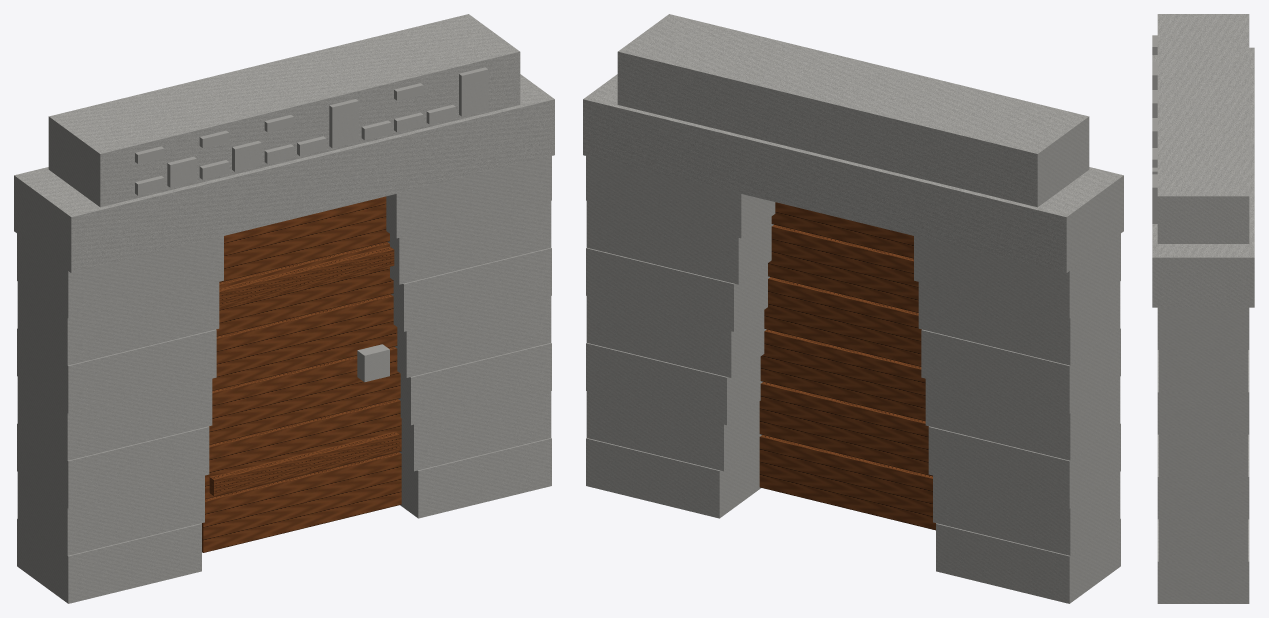
File: andean-terraces-and-stone-village-stone-gateway-93c14c96__38255.glb
3 views of the same model, side by side, from view 1: azimuth 30°, elevation 25°; view 2: azimuth 150°, elevation 25°; view 3: azimuth 270°, elevation 25° (orthographic). The views are drawn at different scales.
Visible parts, largest first — view 1: stone-gateway-stone, leaf/timber, leaf/stone; view 2: stone-gateway-stone, leaf/timber; view 3: stone-gateway-stone.
Part boxes in pixels (x1,y1,x2,y2): stone-gateway-stone: (14, 14, 554, 603); leaf/timber: (202, 196, 401, 552); leaf/stone: (357, 344, 389, 382); stone-gateway-stone: (583, 14, 1123, 603); leaf/timber: (759, 202, 935, 530); stone-gateway-stone: (1152, 14, 1254, 603).
Size of the model in its own units: 3.8 by 3.32 by 0.7798.
Materials: 2 (2 with a texture image).
